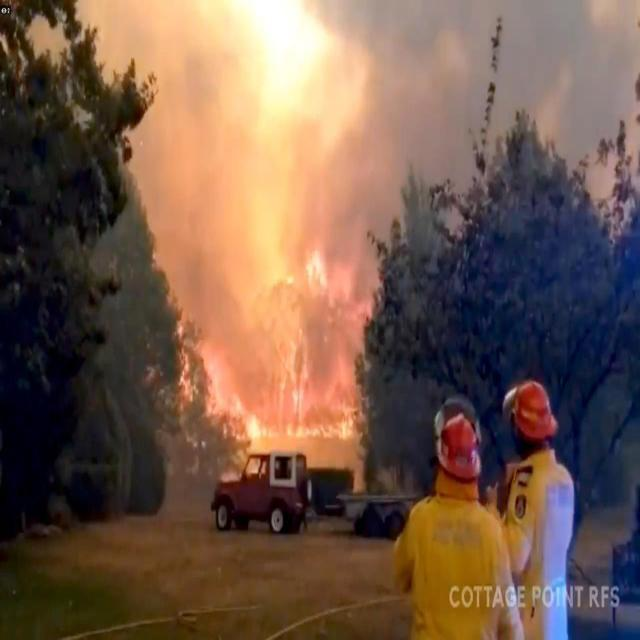Fire: (277, 336, 310, 412), (285, 406, 355, 440), (242, 410, 280, 441), (304, 250, 328, 288)
